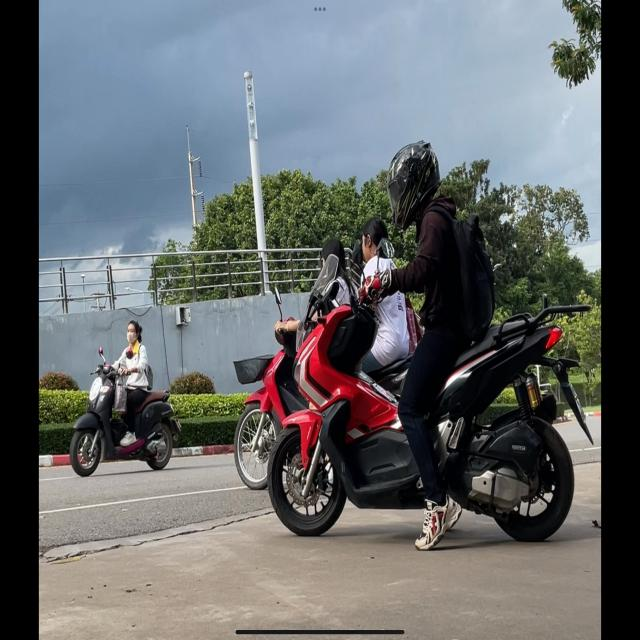no-seatbelt: (386, 136, 446, 230)
seatbelt: (360, 216, 386, 262), (126, 318, 142, 343)
